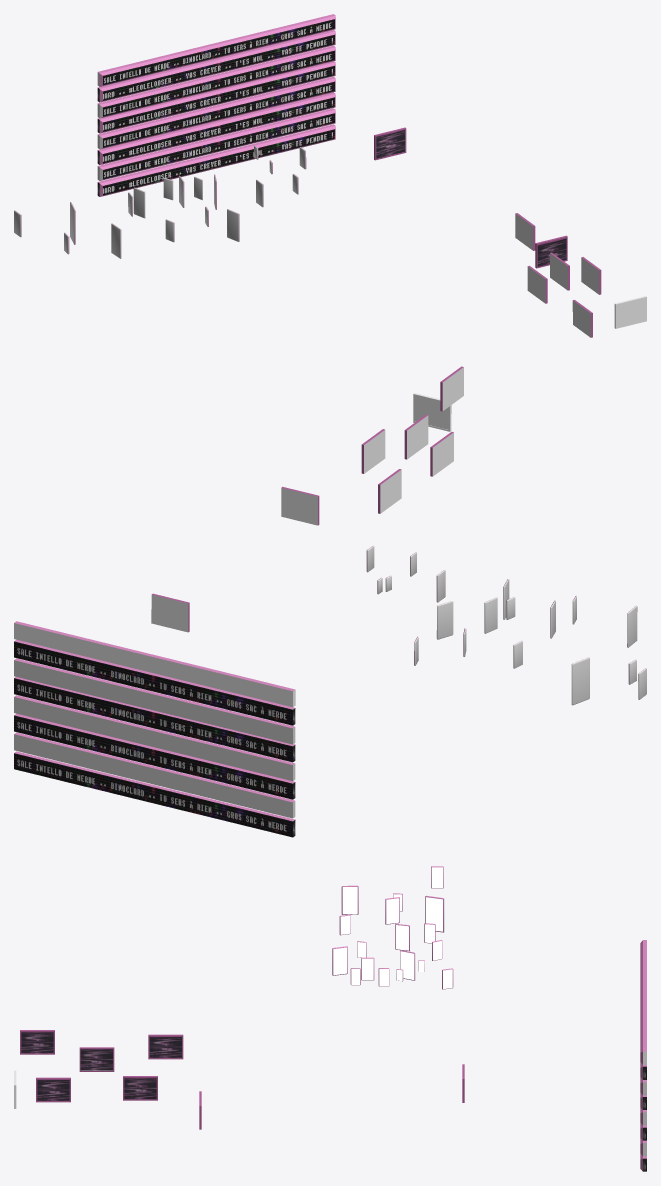
The model's file is room2-props.glb.
The picture shows the model from 3 angles, top to bottom: view 1: azimuth 30°, elevation 25°; view 2: azimuth 150°, elevation 25°; view 3: azimuth 270°, elevation 25°; orthographic projection. The views are drawn at different scales.
Parts seen in each view (by area): view 1: Cube.2-Mat.19 (×2), Cube.2-Mat.3 (×2), Cube.1-Mat.3 (×2), Cube.1-Mat.21, Cube.4-Mat.19, Cube.1-Mat.19, Cube.3-Mat.21, Cube-Mat.21, Cube.5-Mat.21, Cube.3-Mat.3, Cube.4-Mat.3, Cube-Mat.3 (+7 smaller); view 2: Cube.2 (×3), Cube-Mat.19, Cube.4, Cube.1, Cube.5-Mat.19, Cube.3-Mat.19, Cube.1-Mat.19, Cube.2-Mat.3 (×2), Cube.1-Mat.3 (×2), Cube.5, Cube.3, Cube.4-Mat.3 (+4 smaller); view 3: Cube-Mat.11 (×2), Cube.1-Mat.3, Cube.2-Mat.12, Cube-Mat.10, Cube.6-Mat.11, tel.15-Mat.6, tel.14-Mat.6.
Part boxes in pixels (left/top/right/bottom): Cube.2-Mat.19 (×2): left=103, top=50, right=334, bottom=147; Cube.2-Mat.3 (×2): left=98, top=45, right=335, bottom=148; Cube.1-Mat.3 (×2): left=98, top=14, right=335, bottom=133; Cube.1-Mat.21: left=103, top=65, right=334, bottom=131; Cube.4-Mat.19: left=103, top=113, right=334, bottom=179; Cube.1-Mat.19: left=103, top=19, right=334, bottom=85; Cube.3-Mat.21: left=103, top=97, right=334, bottom=163; Cube-Mat.21: left=103, top=34, right=334, bottom=100; Cube.5-Mat.21: left=103, top=129, right=334, bottom=195; Cube.3-Mat.3: left=98, top=92, right=335, bottom=164; Cube.4-Mat.3: left=98, top=108, right=335, bottom=180; Cube-Mat.3: left=98, top=29, right=335, bottom=102; Cube.2 (×3): left=14, top=488, right=317, bottom=781; Cube-Mat.19: left=14, top=641, right=295, bottom=725; Cube.4: left=14, top=734, right=295, bottom=818; Cube.1: left=14, top=623, right=295, bottom=707; Cube.5-Mat.19: left=14, top=753, right=295, bottom=837; Cube.3-Mat.19: left=14, top=715, right=295, bottom=799; Cube.1-Mat.19: left=14, top=678, right=295, bottom=762; Cube.2-Mat.3 (×2): left=14, top=658, right=294, bottom=764; Cube.1-Mat.3 (×2): left=14, top=621, right=294, bottom=746; Cube.5: left=151, top=594, right=188, bottom=632; Cube.3: left=413, top=393, right=451, bottom=431; Cube.4-Mat.3: left=14, top=732, right=294, bottom=802; Cube-Mat.11 (×2): left=21, top=1032, right=69, bottom=1100; Cube.1-Mat.3: left=640, top=940, right=646, bottom=1064; Cube.2-Mat.12: left=124, top=1078, right=156, bottom=1099; Cube-Mat.10: left=80, top=1049, right=112, bottom=1070; Cube.6-Mat.11: left=149, top=1037, right=181, bottom=1057; tel.15-Mat.6: left=426, top=897, right=442, bottom=931; tel.14-Mat.6: left=342, top=887, right=357, bottom=914.
Size of the model in its own units: 9.06 by 2.61 by 11.96.
Materials: 17 (5 with a texture image).
